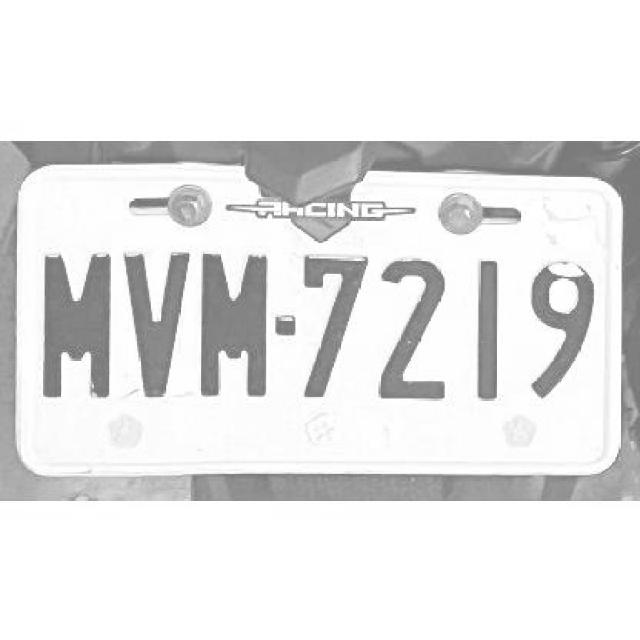-: (275, 311, 297, 334)
1: (476, 258, 498, 398)
2: (376, 256, 450, 402)
7: (300, 250, 368, 402)
9: (528, 263, 594, 399)
M: (37, 248, 114, 403), (198, 244, 271, 402)
V: (121, 246, 192, 397)
